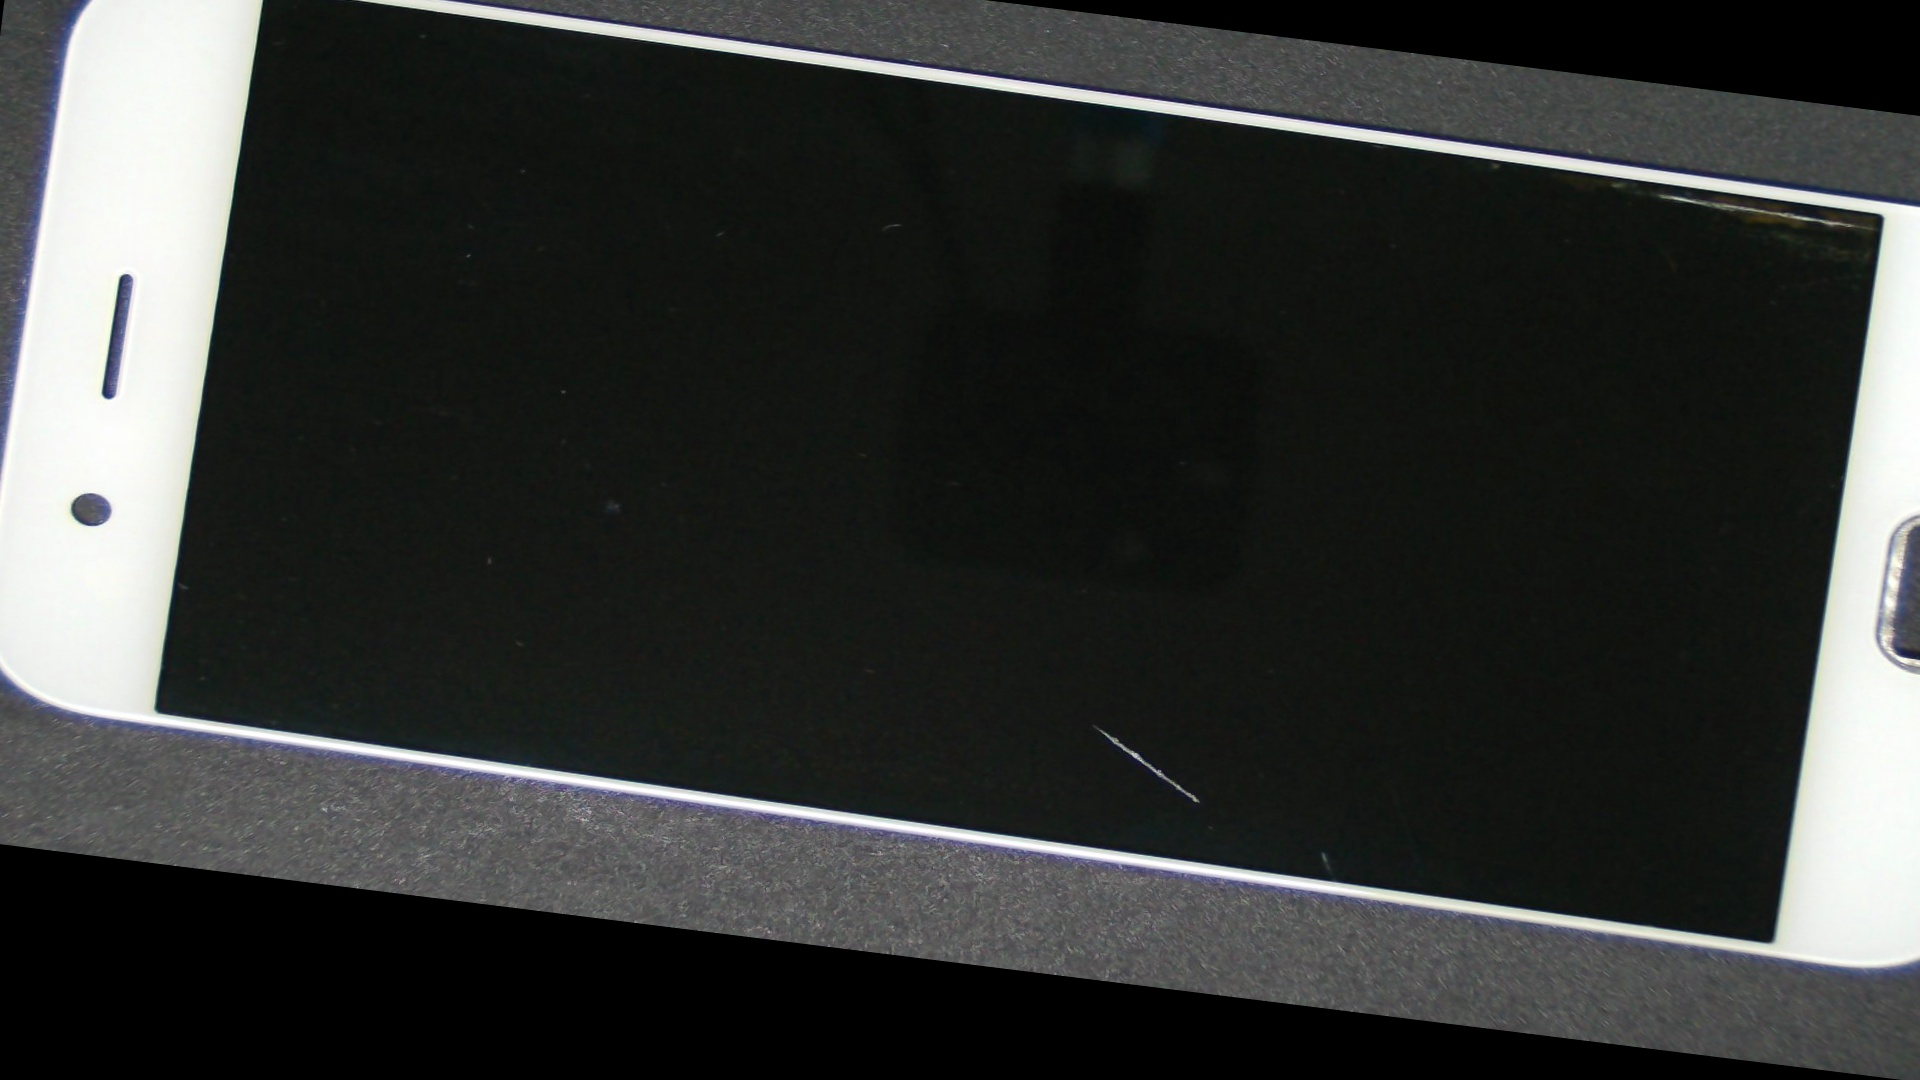oil: (481, 301, 1716, 1047), (819, 33, 1920, 307)
